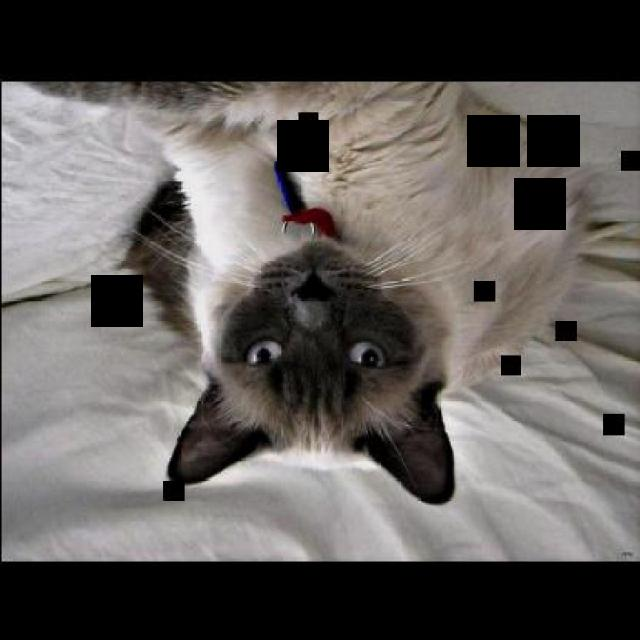unauthorized: (23, 78, 597, 504)
